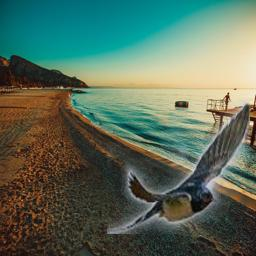Swallow: (107, 101, 250, 234)
